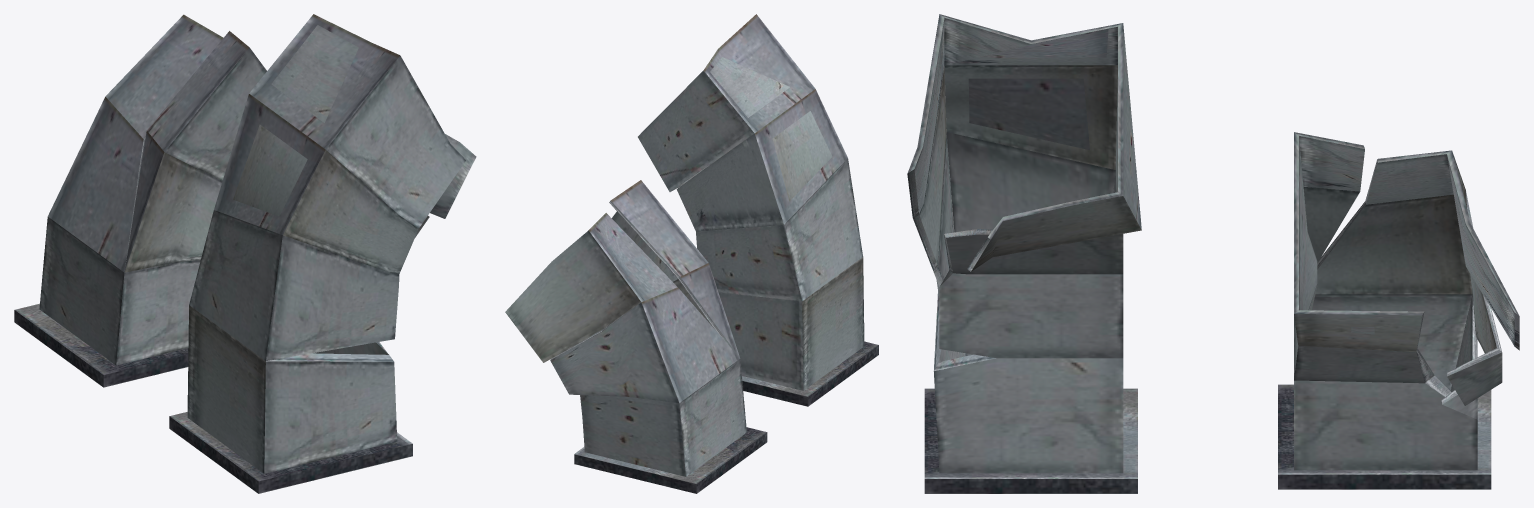
The model's file is Airvent_set2.fbx.
3 renders of one model, left to right at view 1: azimuth 30°, elevation 25°; view 2: azimuth 150°, elevation 25°; view 3: azimuth 270°, elevation 25°, orthographic. The views are drawn at different scales.
Parts seen in each view (by area): view 1: Airvent_set2; view 2: Airvent_set2; view 3: Airvent_set2.
Boxes of the visible parts, x1,y1,x2,y2 form: Airvent_set2: (14,14,476,493); Airvent_set2: (505,14,878,493); Airvent_set2: (907,14,1519,493).
Size of the model in its own units: 155 by 234 by 272.
